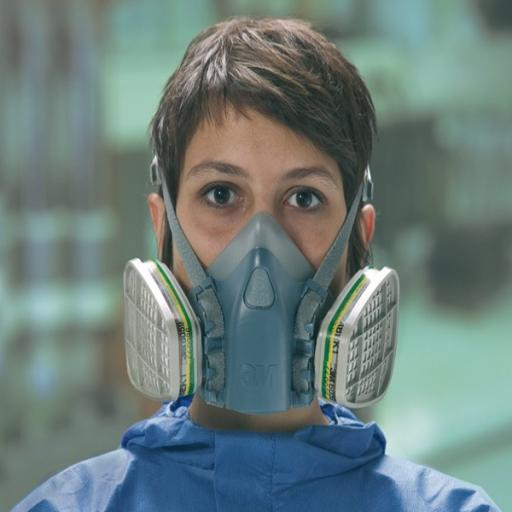mask: (100, 200, 418, 418)
